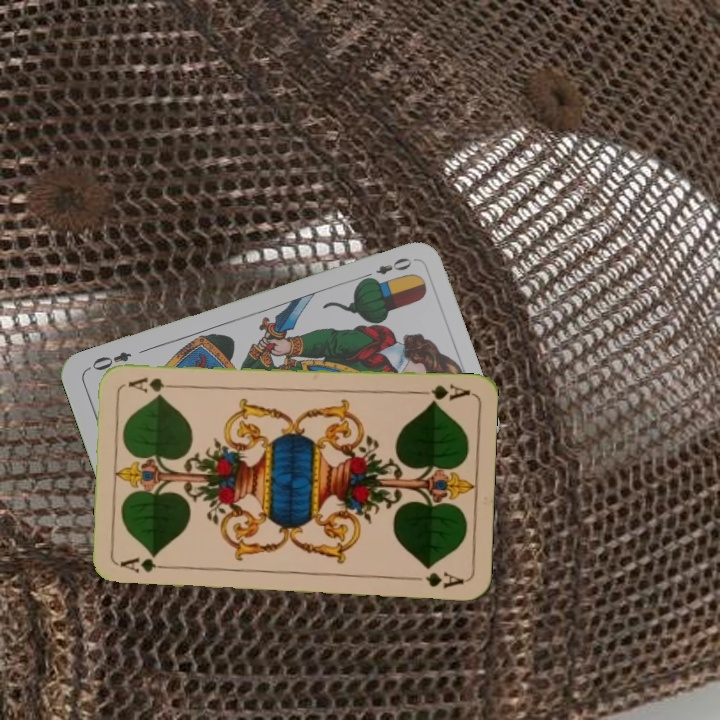EO: (358, 253, 415, 284)
GA: (413, 380, 472, 406), (117, 555, 176, 575)
